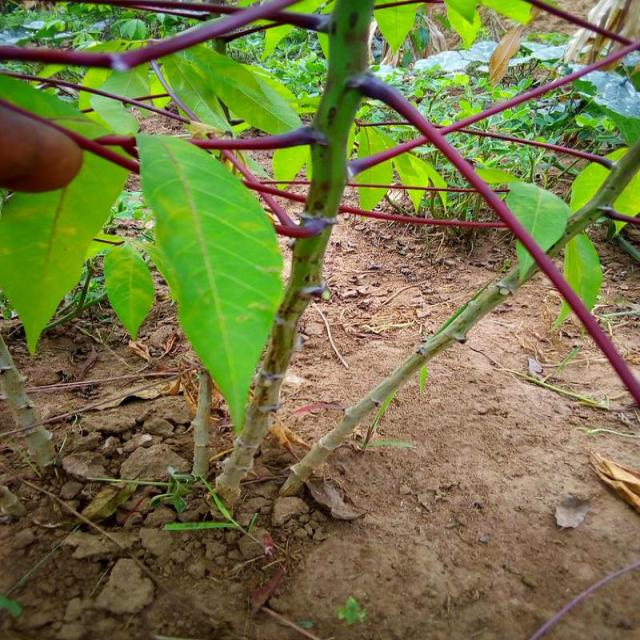cassava leaf: (134, 130, 285, 434), (0, 71, 130, 355), (503, 178, 570, 282), (569, 144, 638, 239), (102, 241, 154, 340), (553, 230, 602, 328)
